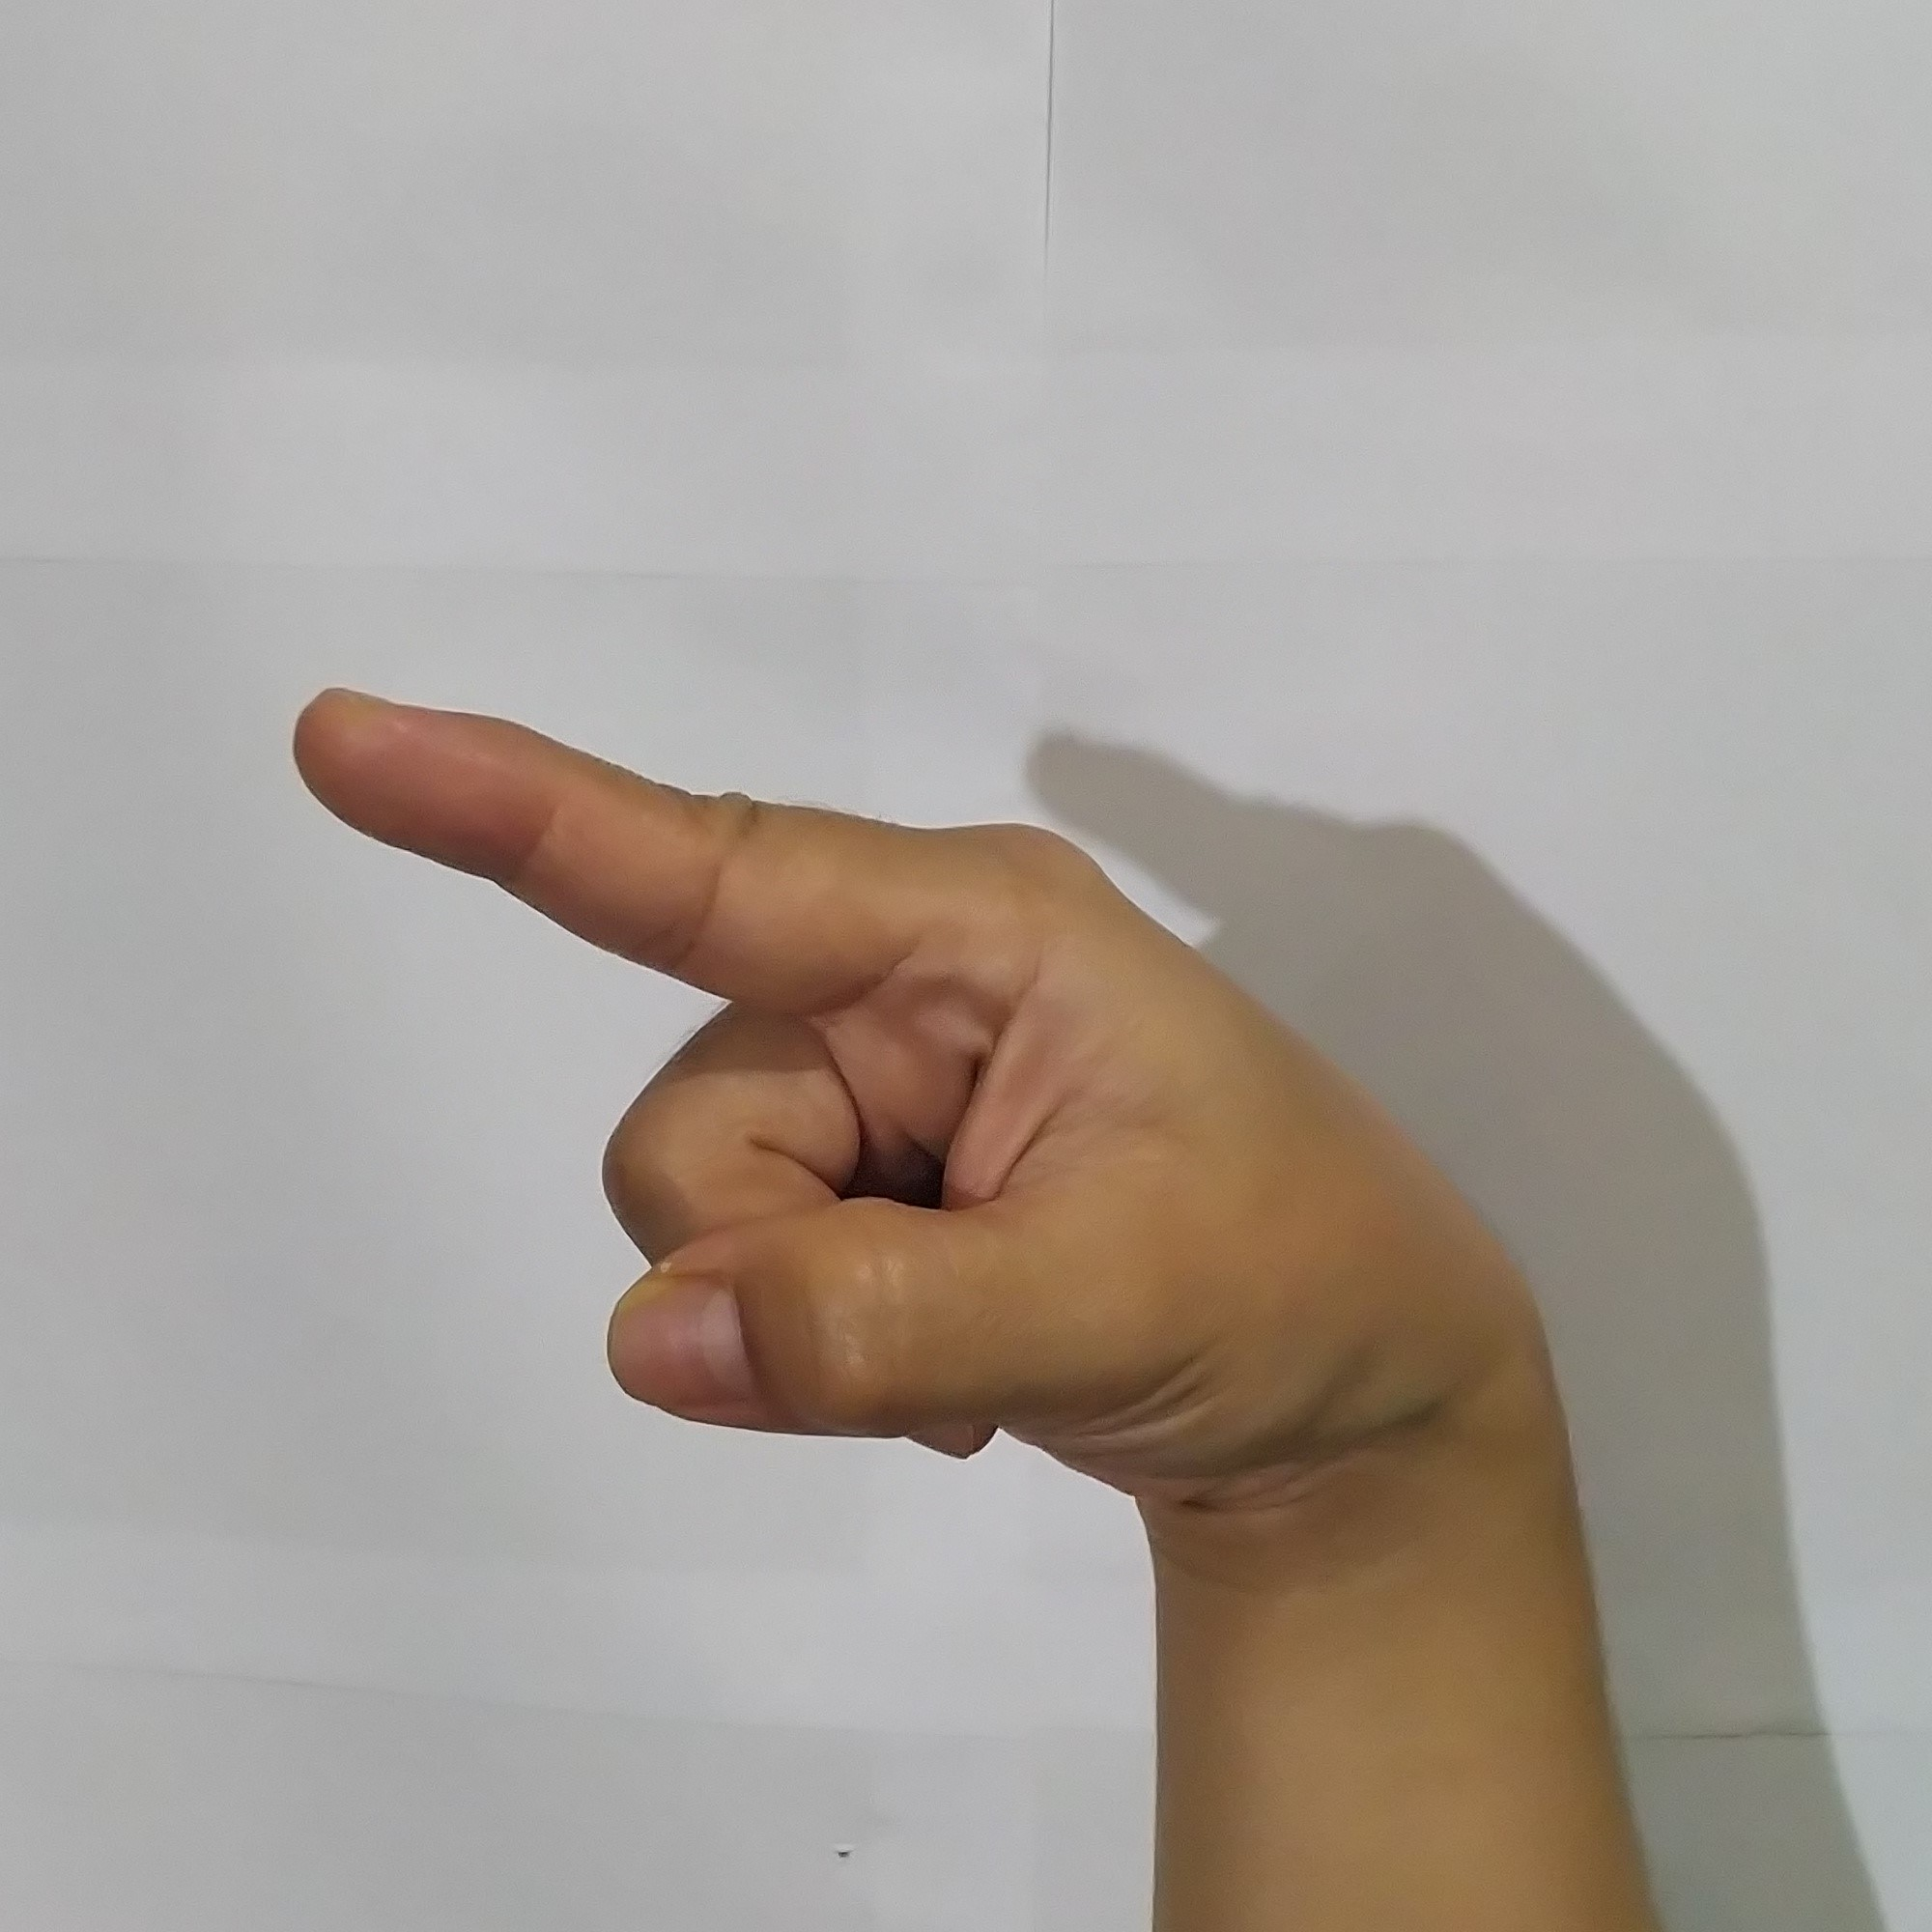Z: (255, 648, 1571, 1500)
